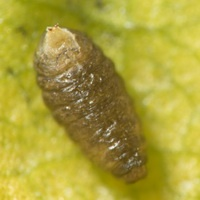insect: (34, 25, 145, 181)
